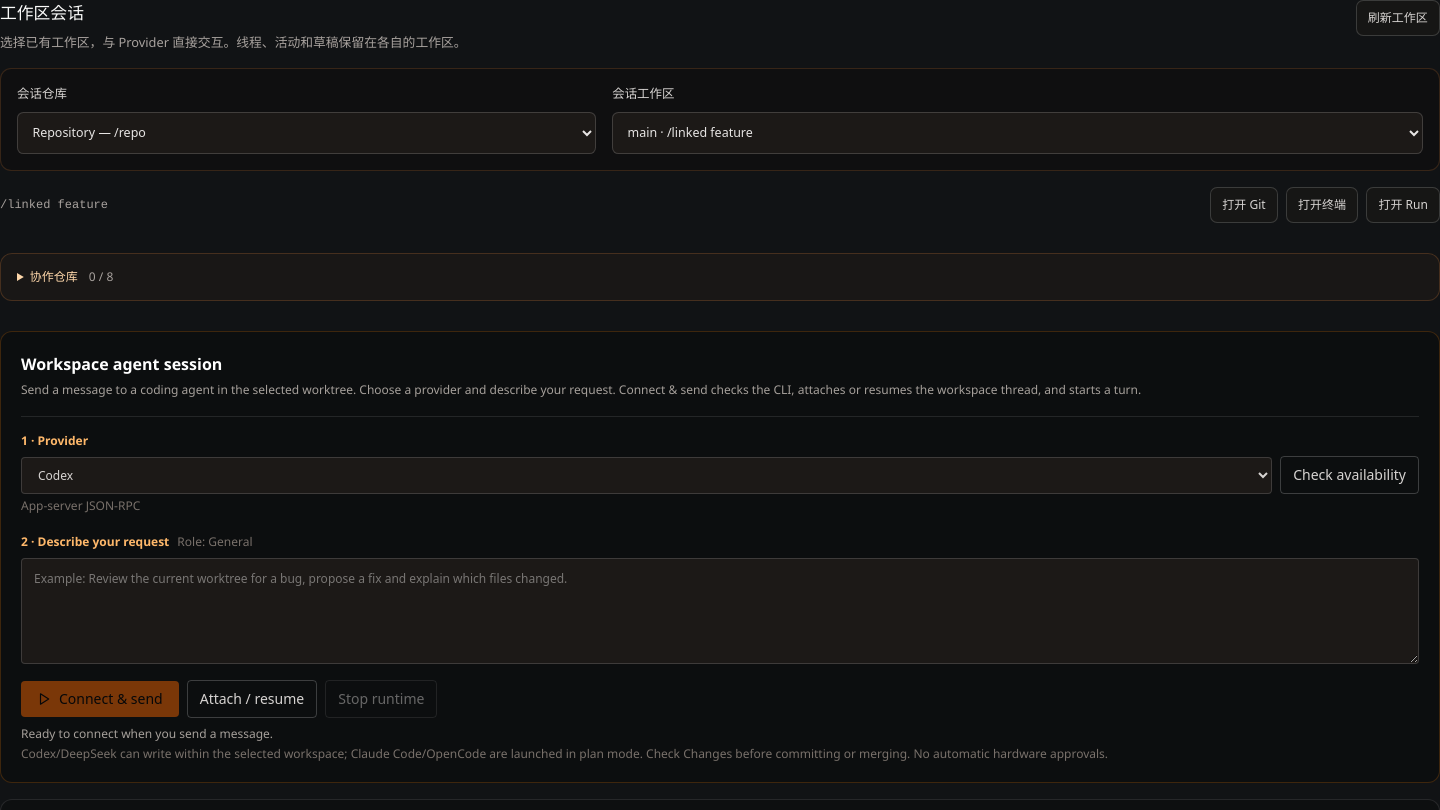
Scenario: Agents Hub workspace sessions › does not restore a removed workspace from a superseded launch preflight
Type "Delayed preflight" into the text box named "Agent message" at {"x": 720, "y": 610}, box [21,558,1419,664]
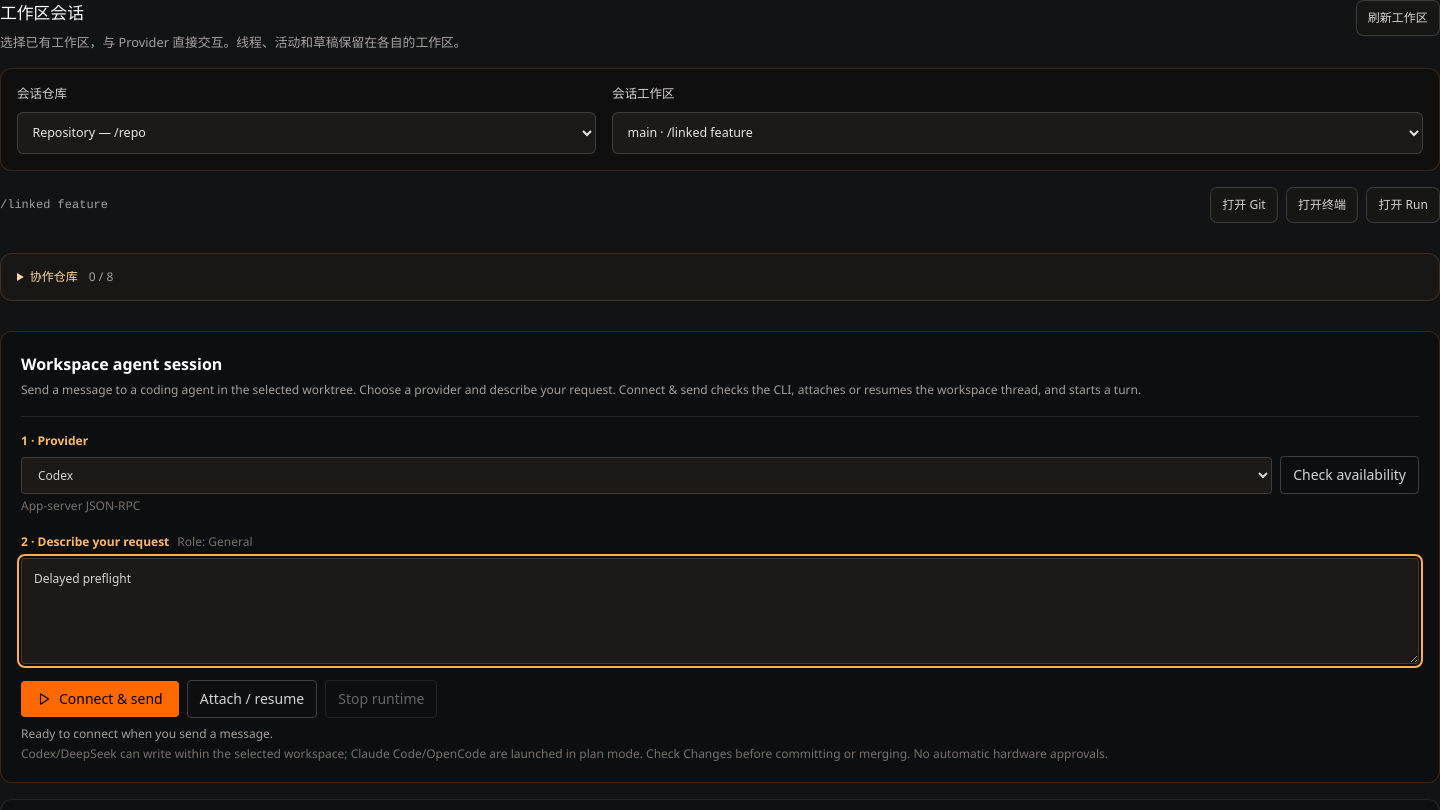
Click the button "Connect & send" at {"x": 100, "y": 698}, box [21,680,179,716]
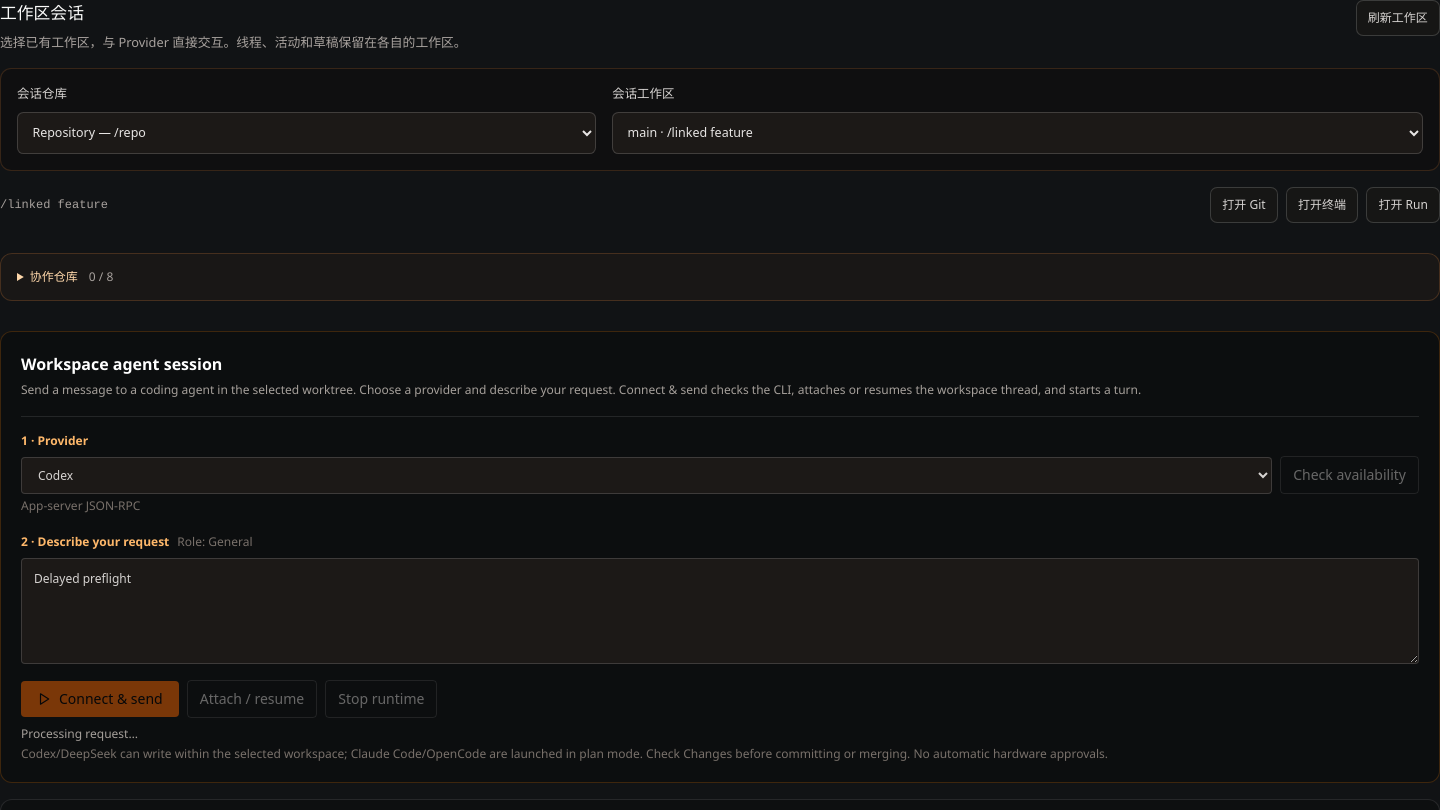
Click the button "刷新工作区" at {"x": 1398, "y": 18}, box [1356,0,1439,36]
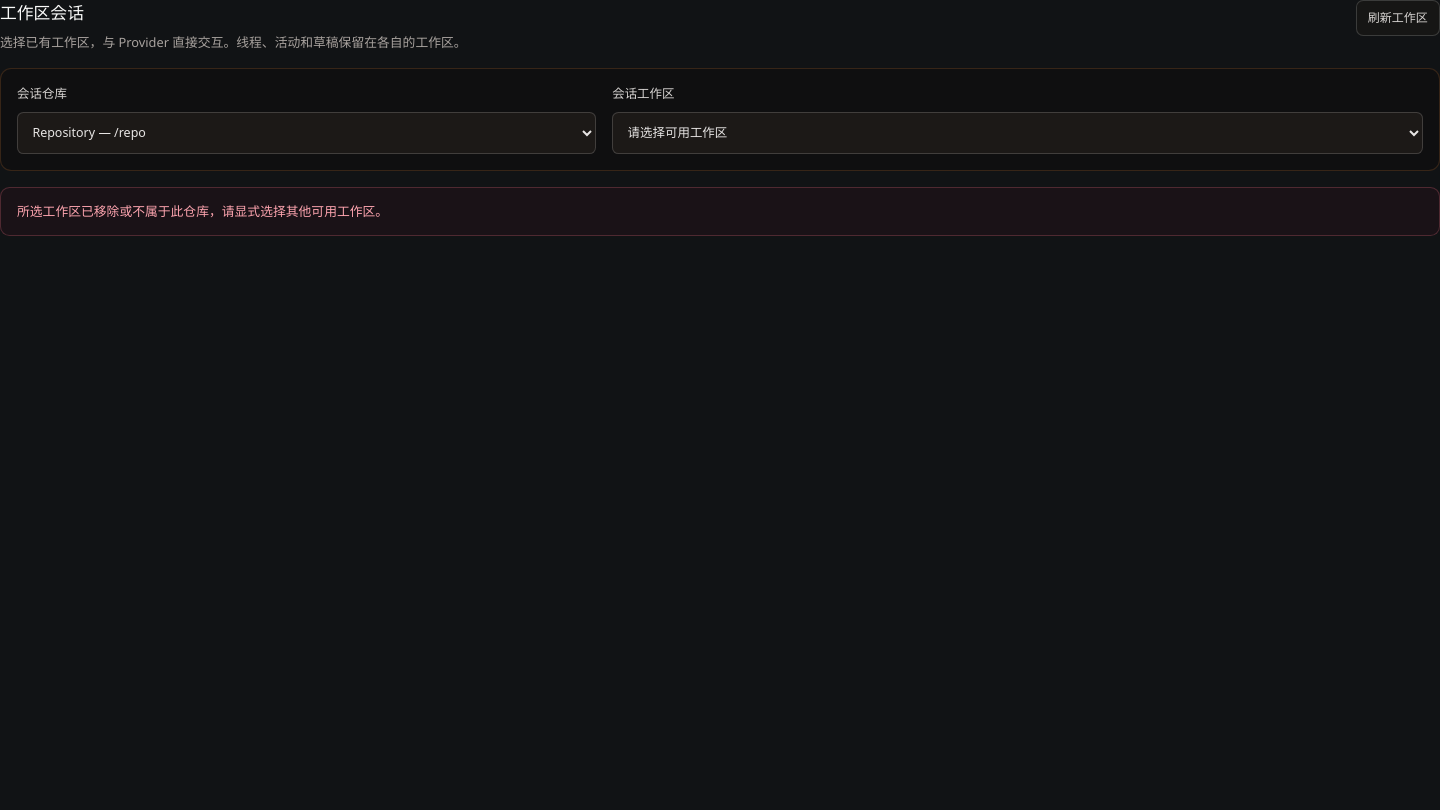
Now the message shows "已移除", box [0,186,1439,236]
